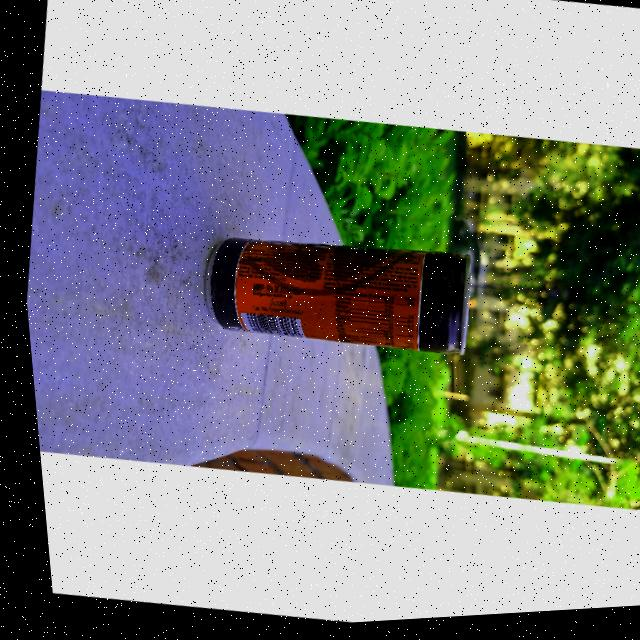Hell Classic: (188, 216, 479, 376)
